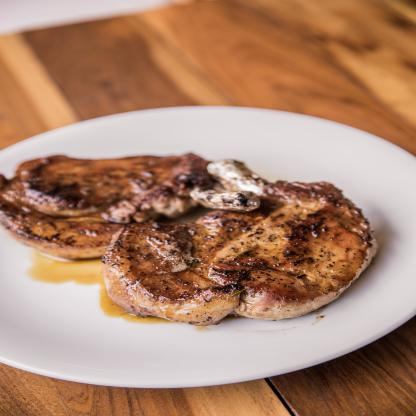Carne: (110, 173, 377, 327), (0, 149, 244, 255)
